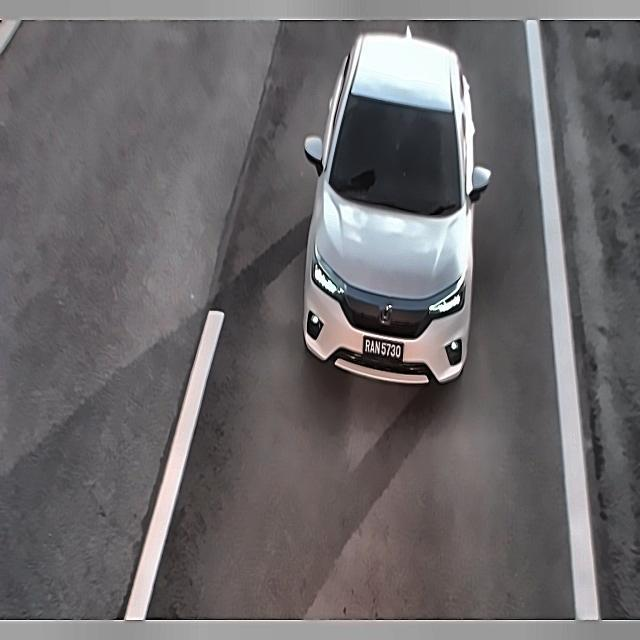car: (348, 327, 408, 373)
